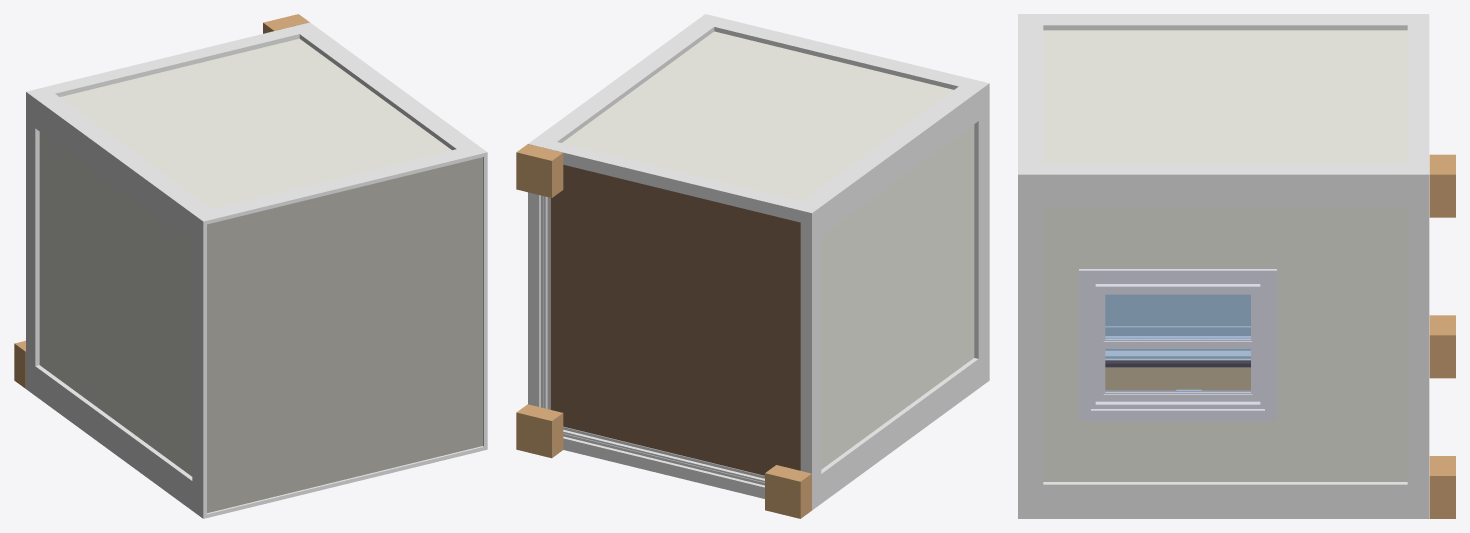
3 renders of one model, left to right at view 1: azimuth 30°, elevation 25°; view 2: azimuth 150°, elevation 25°; view 3: azimuth 270°, elevation 25°, orthographic. The views are drawn at different scales.
Parts seen in each view (by area): view 1: TECHO TERMICO, MURO METALICO TERMOAISLANTE e=0.05m:3, MURO METALICO TERMOAISLANTE e=0.05m, VIGA MOSULAR 2, COLUMNA MODULAR, VIGA SWEEP, COLUMNA MODULAR:2, COLUMNA MODULAR:1; view 2: PISO TRIPLAY FENOLICO 18mm, MURO METALICO TERMOAISLANTE e=0.05m:3, MURO METALICO TERMOAISLANTE e=0.05m, VIGA SWEEP, VIGA MOSULAR 2, COLUMNA MODULAR, COLUMNA MODULAR:2, COLUMNA MODULAR:1, DADO DE CONCRETO 300x300x300:2, DADO DE CONCRETO 300x300x300:1, DADO DE CONCRETO 300x300x300; view 3: MURO METALICO TERMOAISLANTE e=0.05m:2, MURO METALICO TERMOAISLANTE e=0.05m, COLUMNA MODULAR:1, COLUMNA MODULAR:3, VIGA MOSULAR 2, VIGA SWEEP, VENTANA CORREDIZA 0.90x1.10 m:2, VENTANA CORREDIZA 0.90x1.10 m:5, VENTANA CORREDIZA 0.90x1.10 m:7, COLUMNA MODULAR, MURO METALICO TERMOAISLANTE e=0.05m:3, VENTANA CORREDIZA 0.90x1.10 m:4 (+8 smaller).
Part boxes in pixels (x1=…): TECHO TERMICO: x1=207, y1=157, x2=482, y2=513; MURO METALICO TERMOAISLANTE e=0.05m:3: x1=39, y1=132, x2=192, y2=476; MURO METALICO TERMOAISLANTE e=0.05m: x1=60, y1=38, x2=451, y2=208; VIGA MOSULAR 2: x1=192, y1=144, x2=487, y2=518; COLUMNA MODULAR: x1=35, y1=94, x2=211, y2=242; VIGA SWEEP: x1=26, y1=22, x2=318, y2=395; COLUMNA MODULAR:2: x1=35, y1=365, x2=192, y2=510; COLUMNA MODULAR:1: x1=299, y1=29, x2=475, y2=150; PISO TRIPLAY FENOLICO 18mm: x1=550, y1=164, x2=800, y2=475; MURO METALICO TERMOAISLANTE e=0.05m:3: x1=821, y1=124, x2=974, y2=469; MURO METALICO TERMOAISLANTE e=0.05m: x1=562, y1=31, x2=953, y2=201; VIGA SWEEP: x1=528, y1=137, x2=821, y2=510; VIGA MOSULAR 2: x1=695, y1=14, x2=989, y2=388; COLUMNA MODULAR: x1=802, y1=86, x2=978, y2=235; COLUMNA MODULAR:2: x1=821, y1=358, x2=978, y2=503; COLUMNA MODULAR:1: x1=538, y1=22, x2=714, y2=142; DADO DE CONCRETO 300x300x300:2: x1=516, y1=404, x2=563, y2=458; DADO DE CONCRETO 300x300x300:1: x1=516, y1=144, x2=563, y2=197; DADO DE CONCRETO 300x300x300: x1=765, y1=465, x2=811, y2=518; MURO METALICO TERMOAISLANTE e=0.05m:2: x1=1043, y1=209, x2=1407, y2=481; MURO METALICO TERMOAISLANTE e=0.05m: x1=1043, y1=30, x2=1407, y2=163; COLUMNA MODULAR:1: x1=1043, y1=163, x2=1407, y2=208; COLUMNA MODULAR:3: x1=1043, y1=482, x2=1407, y2=518; VIGA MOSULAR 2: x1=1018, y1=14, x2=1043, y2=518; VIGA SWEEP: x1=1407, y1=14, x2=1429, y2=518; VENTANA CORREDIZA 0.90x1.10 m:2: x1=1079, y1=269, x2=1276, y2=421; VENTANA CORREDIZA 0.90x1.10 m:5: x1=1105, y1=295, x2=1250, y2=338; VENTANA CORREDIZA 0.90x1.10 m:7: x1=1105, y1=349, x2=1250, y2=391; COLUMNA MODULAR: x1=1043, y1=14, x2=1407, y2=30; MURO METALICO TERMOAISLANTE e=0.05m:3: x1=1105, y1=294, x2=1250, y2=326; VENTANA CORREDIZA 0.90x1.10 m:4: x1=1095, y1=284, x2=1260, y2=348.
Bounding box in the file's own units: 2.4 × 2.4 × 2.76.
